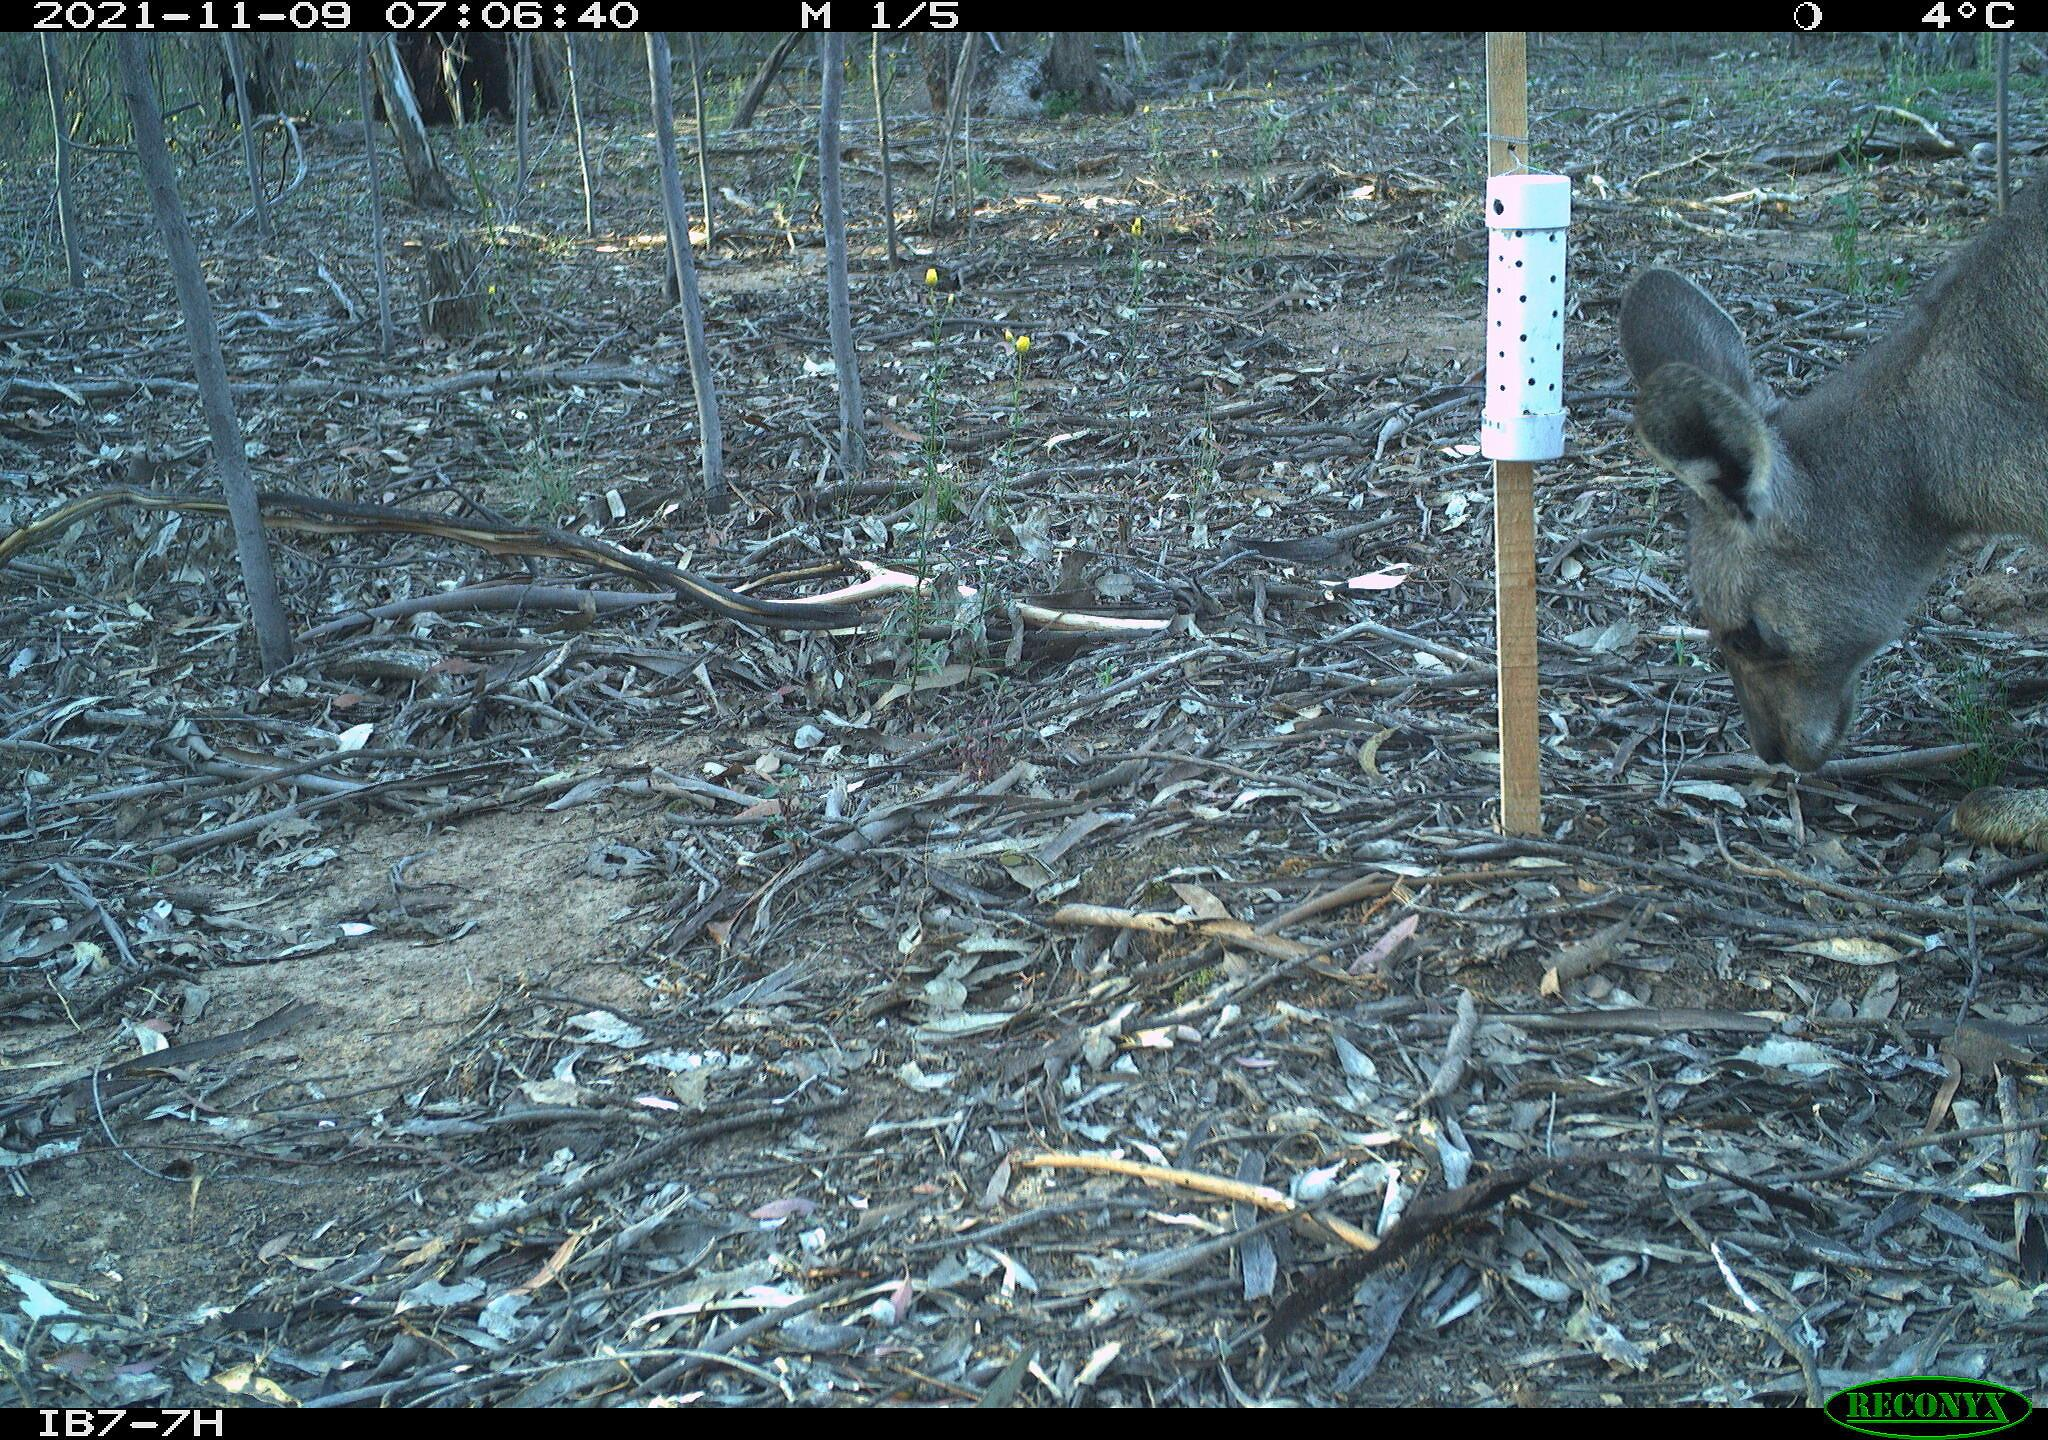Eastern grey kangaroo: (1624, 154, 2048, 793)
